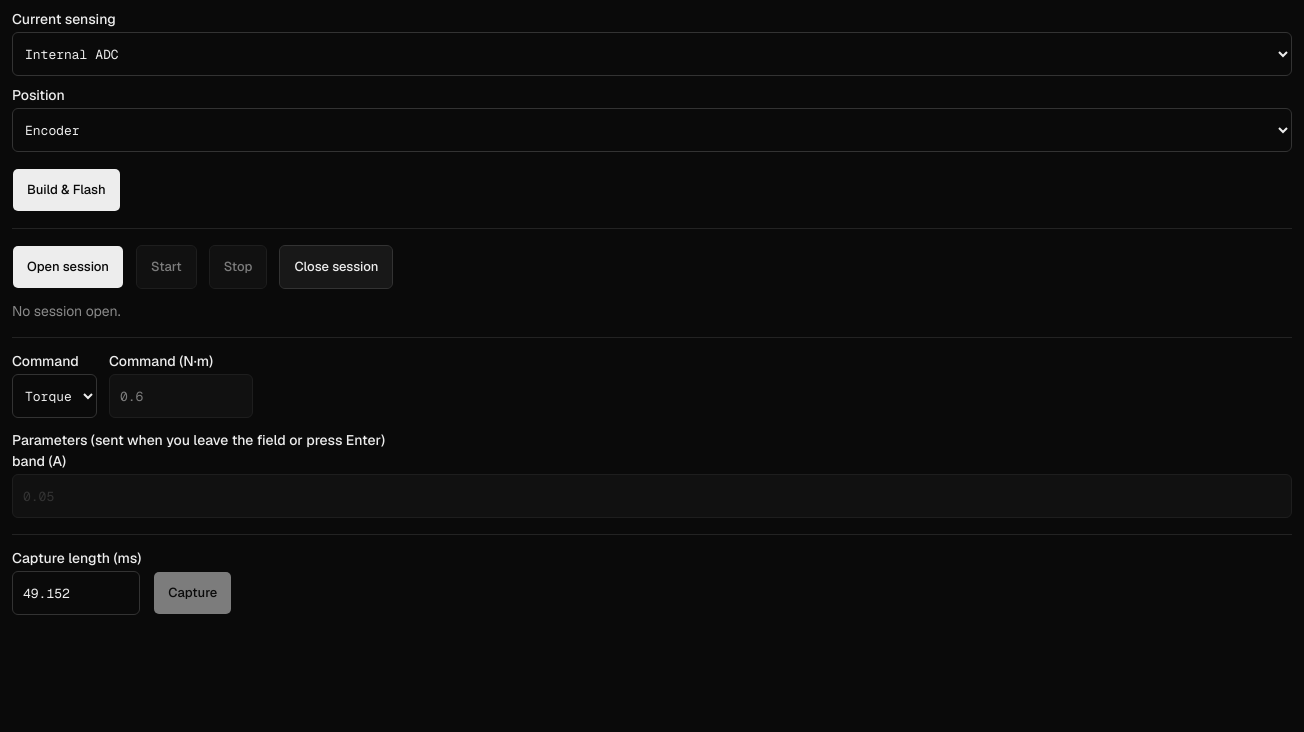
Test: HilPanel › shows the DAC selector only for internal current sensing
The image size is (1304, 732).
Expected: the dropdown with id "hil-pos" is shown, x1=12 y1=108 x2=1292 y2=152
Select "Internal ADC" in the dropdown with id "hil-cs" at (652, 54), box x1=12 y1=32 x2=1292 y2=76
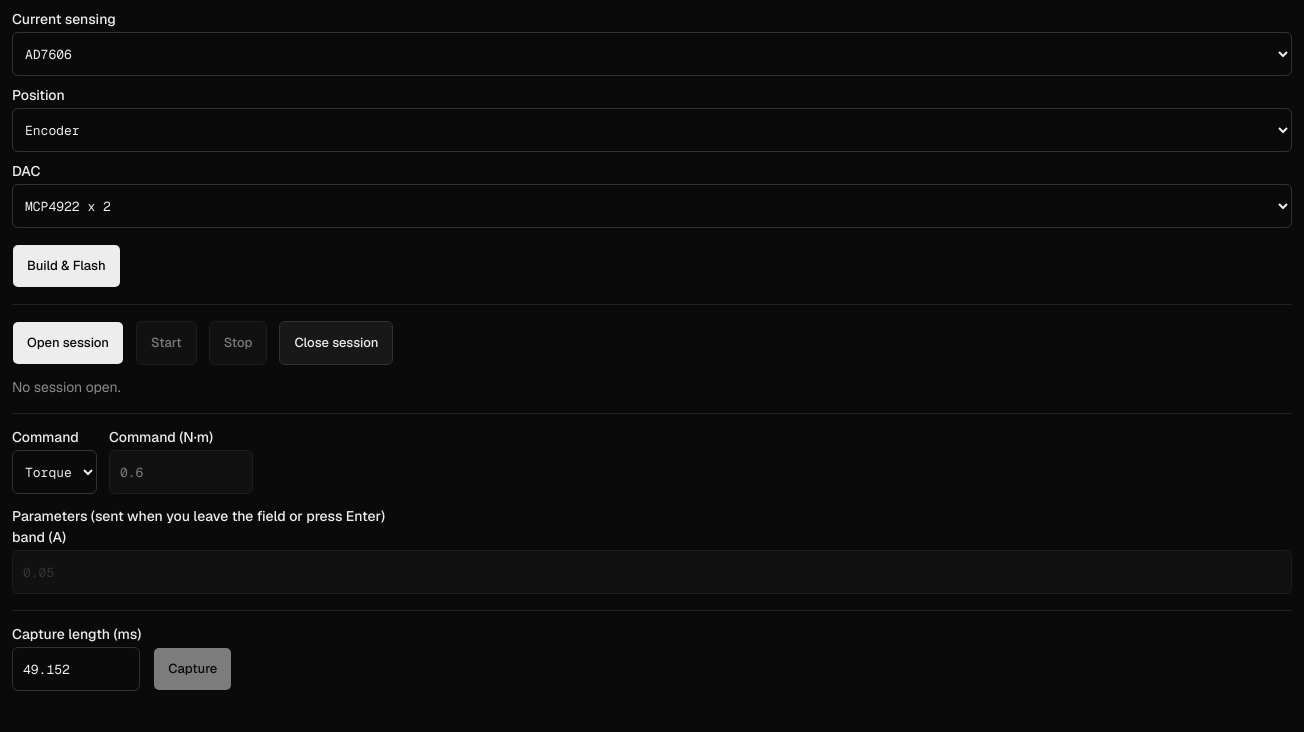
Expected: the dropdown with id "hil-dac" is shown, x1=12 y1=184 x2=1292 y2=228
Select "AD7606" in the dropdown with id "hil-cs" at (652, 54), box x1=12 y1=32 x2=1292 y2=76
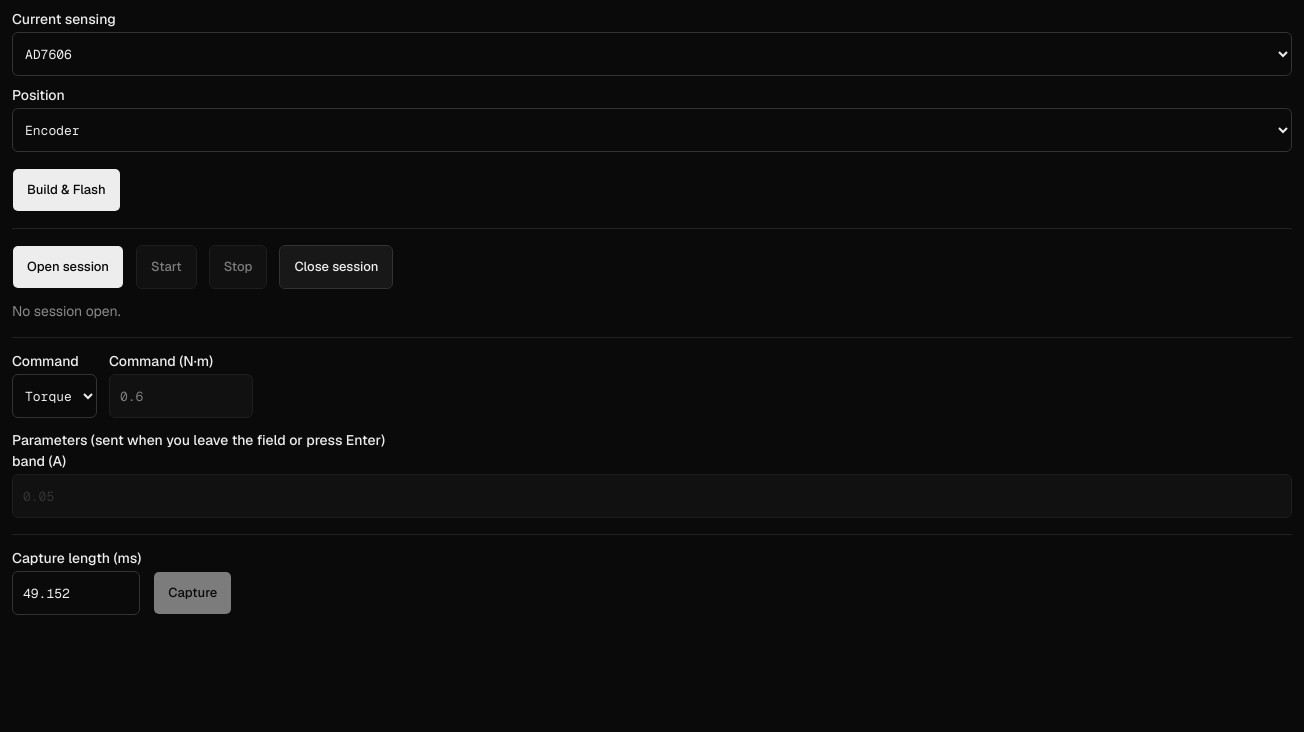
Expected: the label with id "hil-dac" is gone
